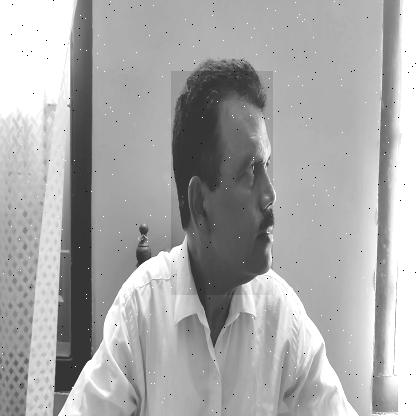Distracted: (171, 71, 273, 295)
